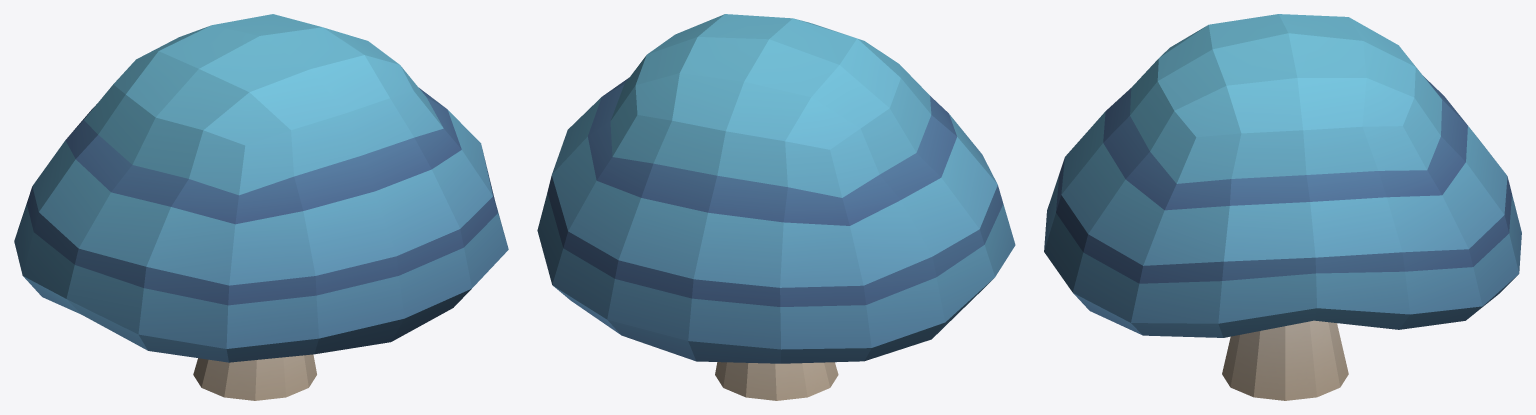
File: Mushroom6.fbx
3 views of the same model, side by side, from view 1: azimuth 30°, elevation 25°; view 2: azimuth 150°, elevation 25°; view 3: azimuth 270°, elevation 25° (orthographic). The views are drawn at different scales.
Visible parts, largest first — view 1: Mushroom6; view 2: Mushroom6; view 3: Mushroom6.
Part boxes in pixels (box(x1,y1,x2,y2)): Mushroom6: box(14, 14, 508, 400); Mushroom6: box(537, 14, 1015, 400); Mushroom6: box(1044, 14, 1521, 400).
Size of the model in its own units: 32.55 by 25.48 by 32.08.
